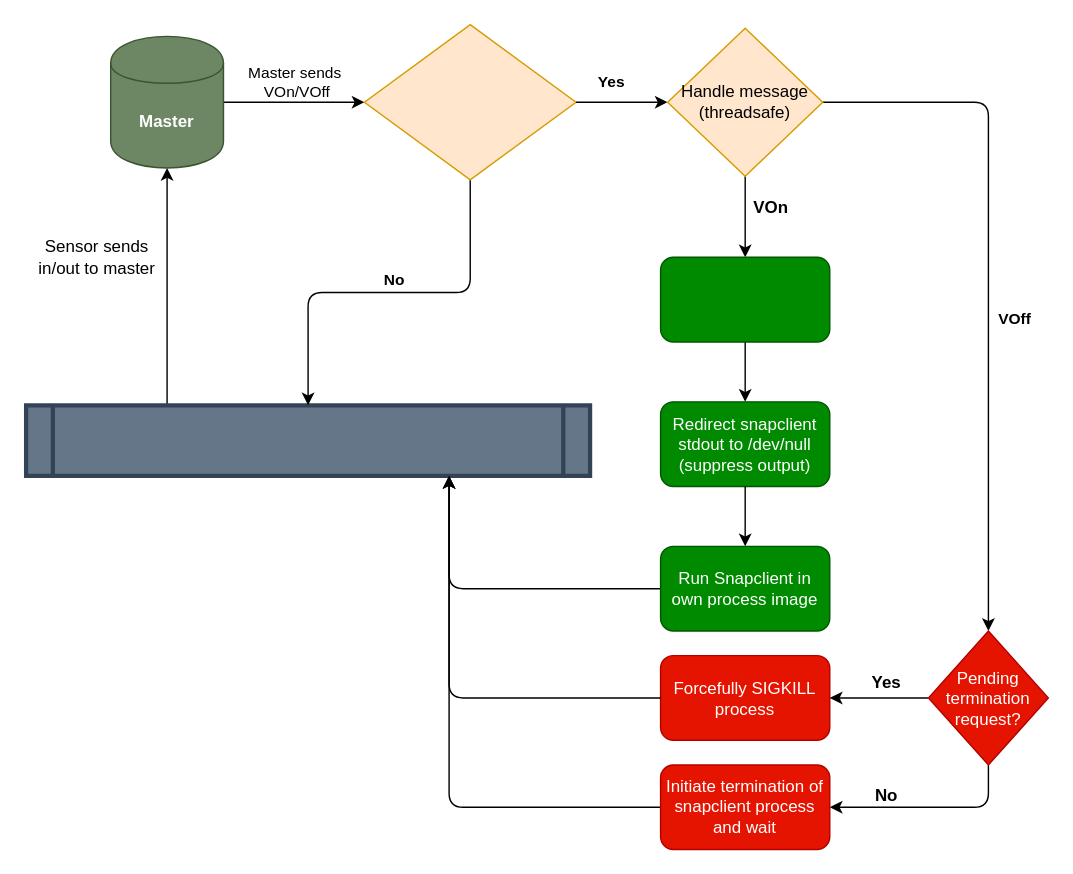
This 1073x874 diagram has some shape labels left out. Each missing label, with the box of its shape:
If Snapclient is not alive, fork new snapclient process and save process ID: (659, 256, 830, 342)
Slave responsible for audiostreaming?: (363, 23, 576, 180)
SMART AUDIO SLAVE: (23, 403, 591, 477)
